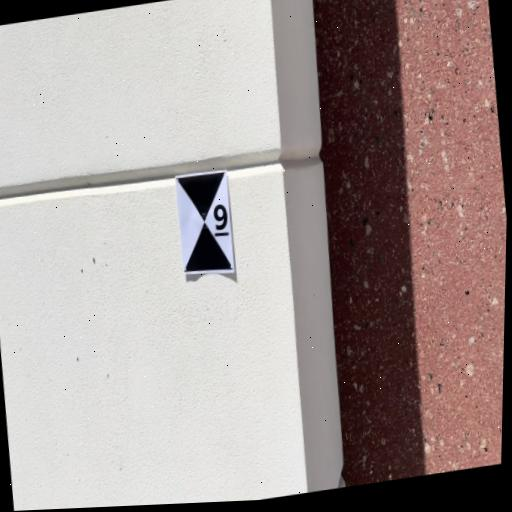target9: (172, 166, 238, 279)
